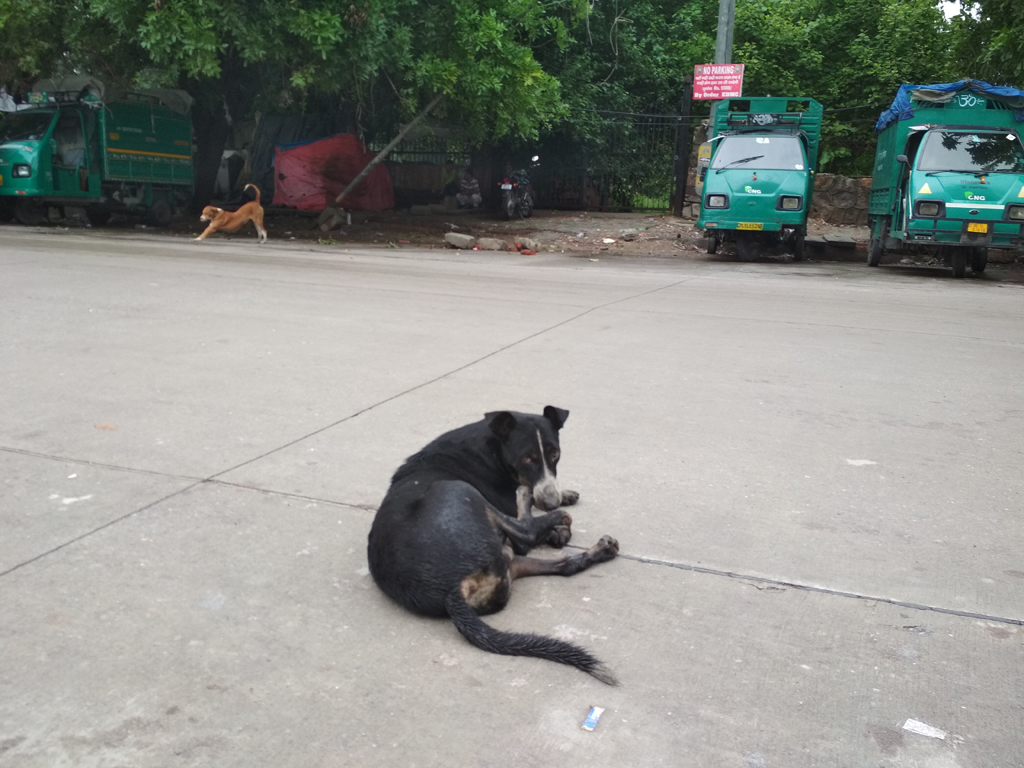dog: (367, 405, 620, 687), (193, 183, 269, 244)
